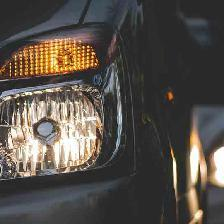broken_light: (60, 80, 104, 120)
